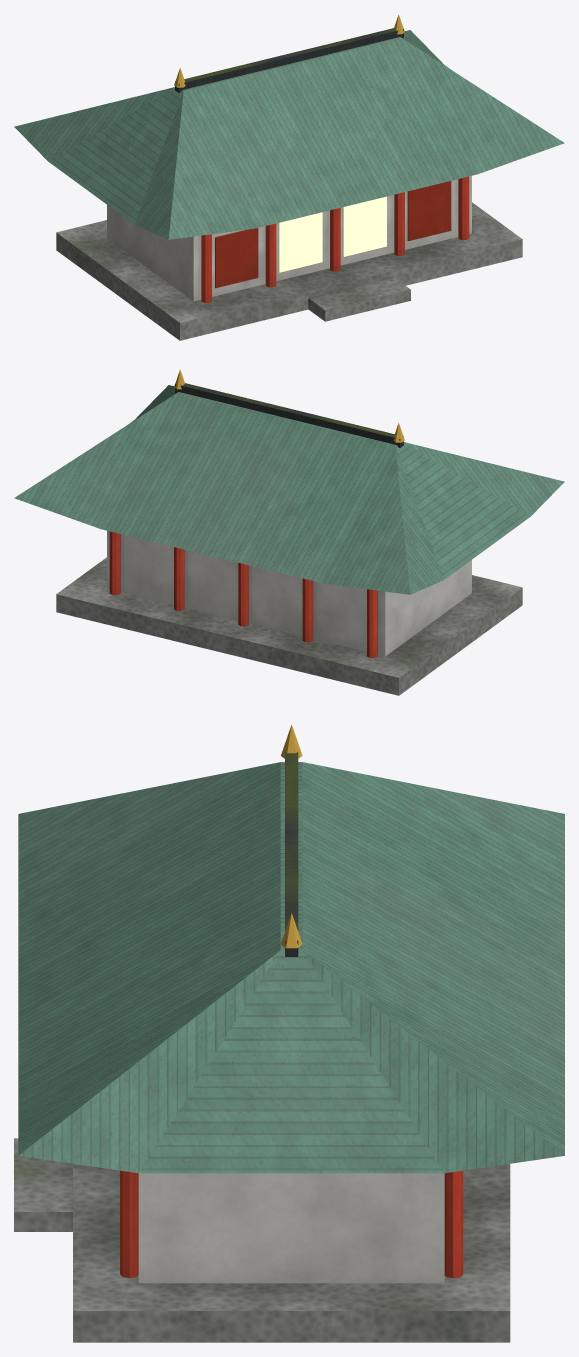
The model's file is tempelhall_tex.glb.
The picture shows the model from 3 angles, top to bottom: view 1: azimuth 30°, elevation 25°; view 2: azimuth 150°, elevation 25°; view 3: azimuth 270°, elevation 25°; orthographic projection. The views are drawn at different scales.
Visible parts, largest first — view 1: tempelhall; view 2: tempelhall; view 3: tempelhall.
Part boxes in pixels (x1,y1,x2,y2): tempelhall: (14, 14, 564, 340); tempelhall: (14, 369, 564, 695); tempelhall: (14, 724, 564, 1342).
Bounding box in the file's own units: 37 × 19 × 25.2.
8 materials, 6 textured.
